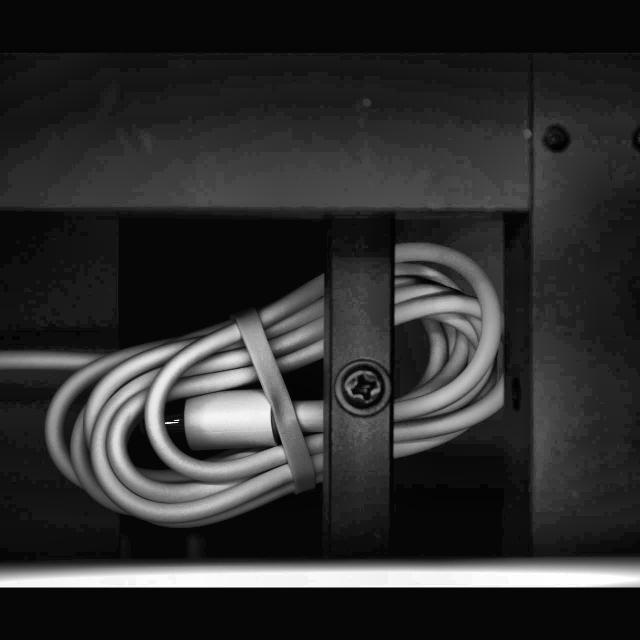Cable: (0, 237, 512, 530)
